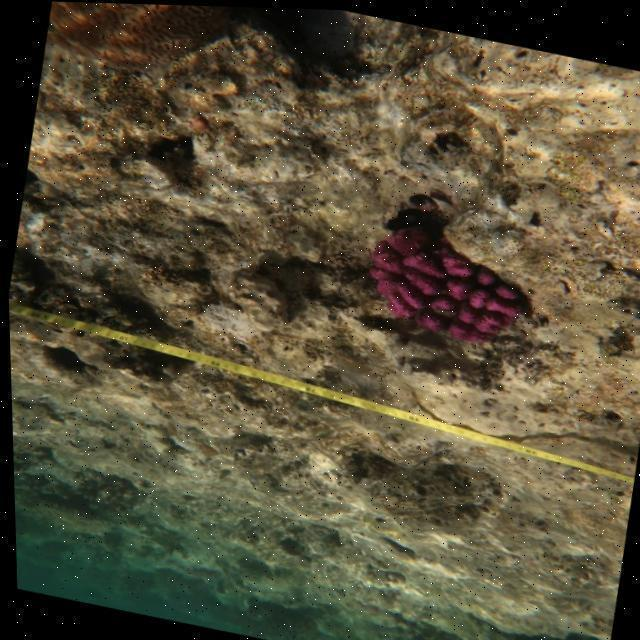Healthy Coral: (340, 185, 547, 367), (41, 1, 261, 96)
